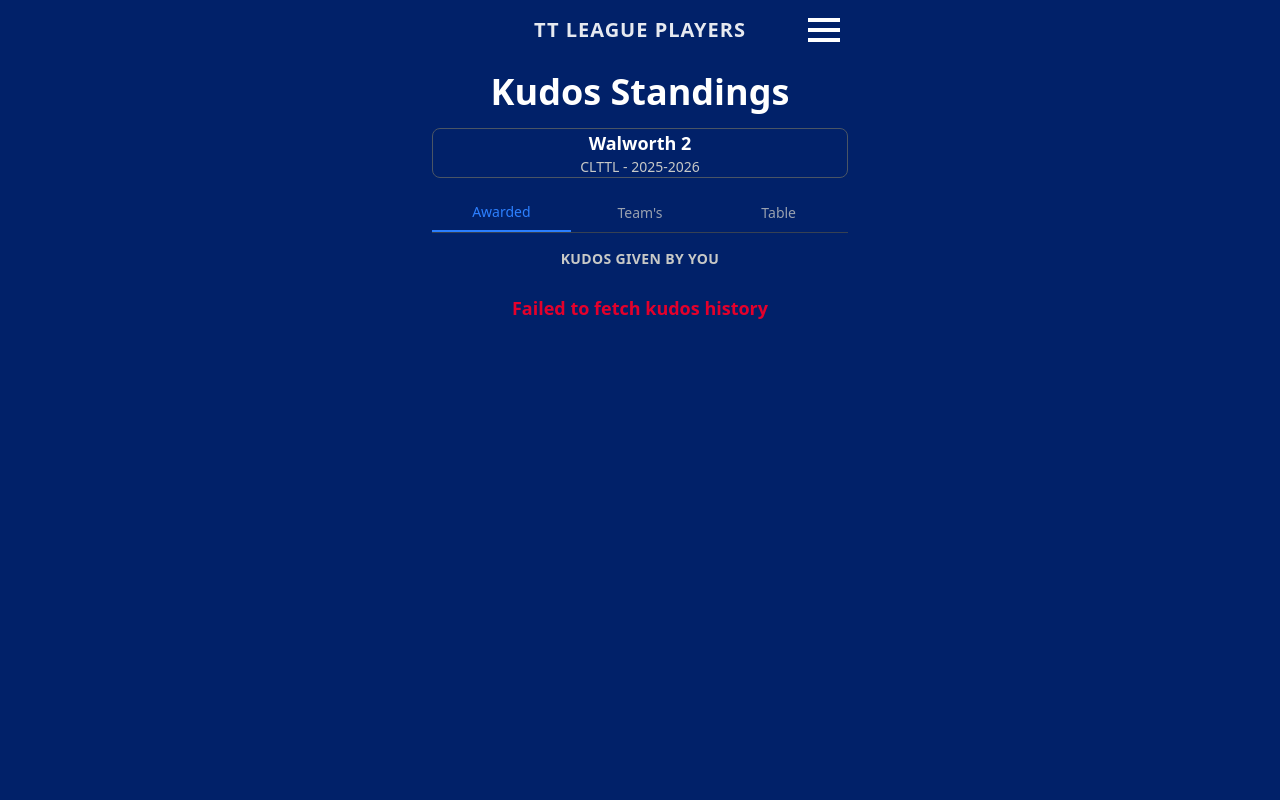
Scenario: KudosStandings info modal › Team's to Table pending request switch › ignores the discarded success until the current tab finishes
Expected: the text "Failed to fetch kudos history" is shown, x1=512 y1=296 x2=768 y2=320
Click the button "Team's" at (640, 213), box x1=571 y1=194 x2=709 y2=232
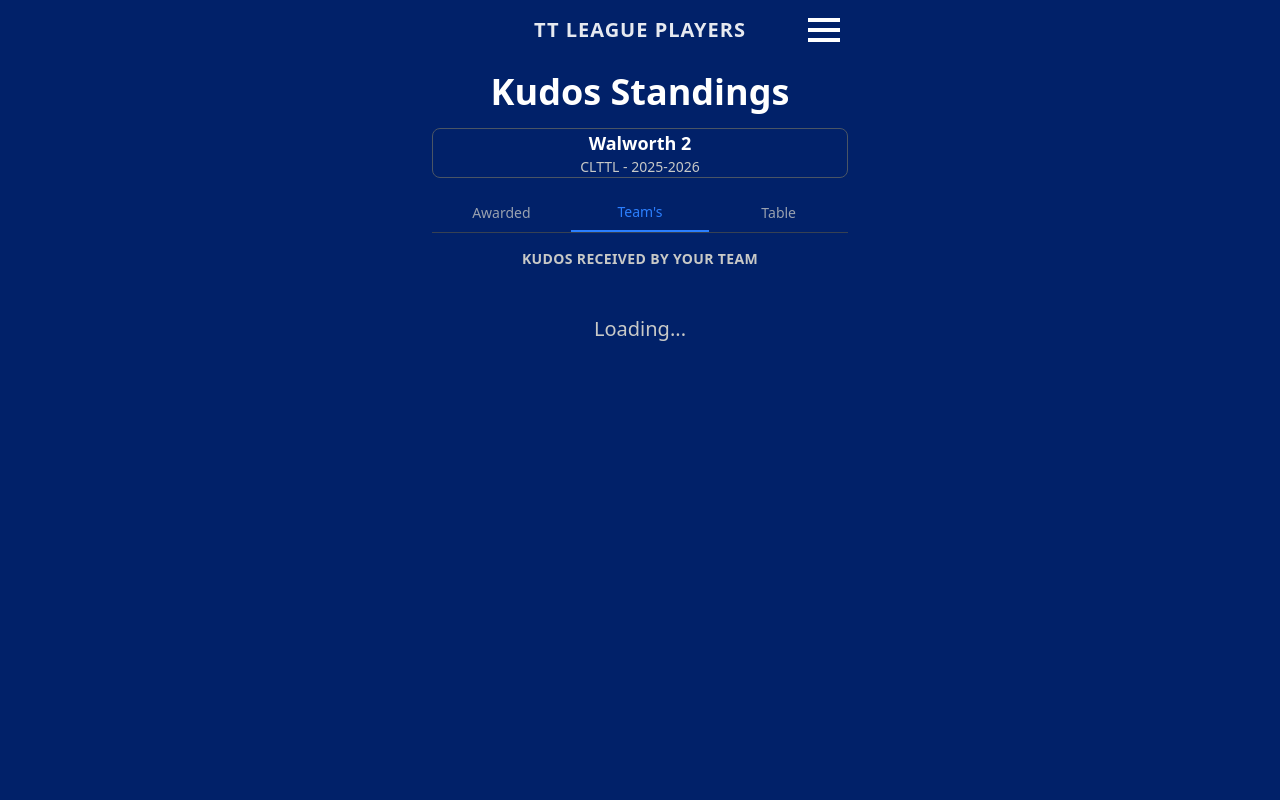
Click the button "Table" at (779, 213), box x1=709 y1=194 x2=848 y2=232
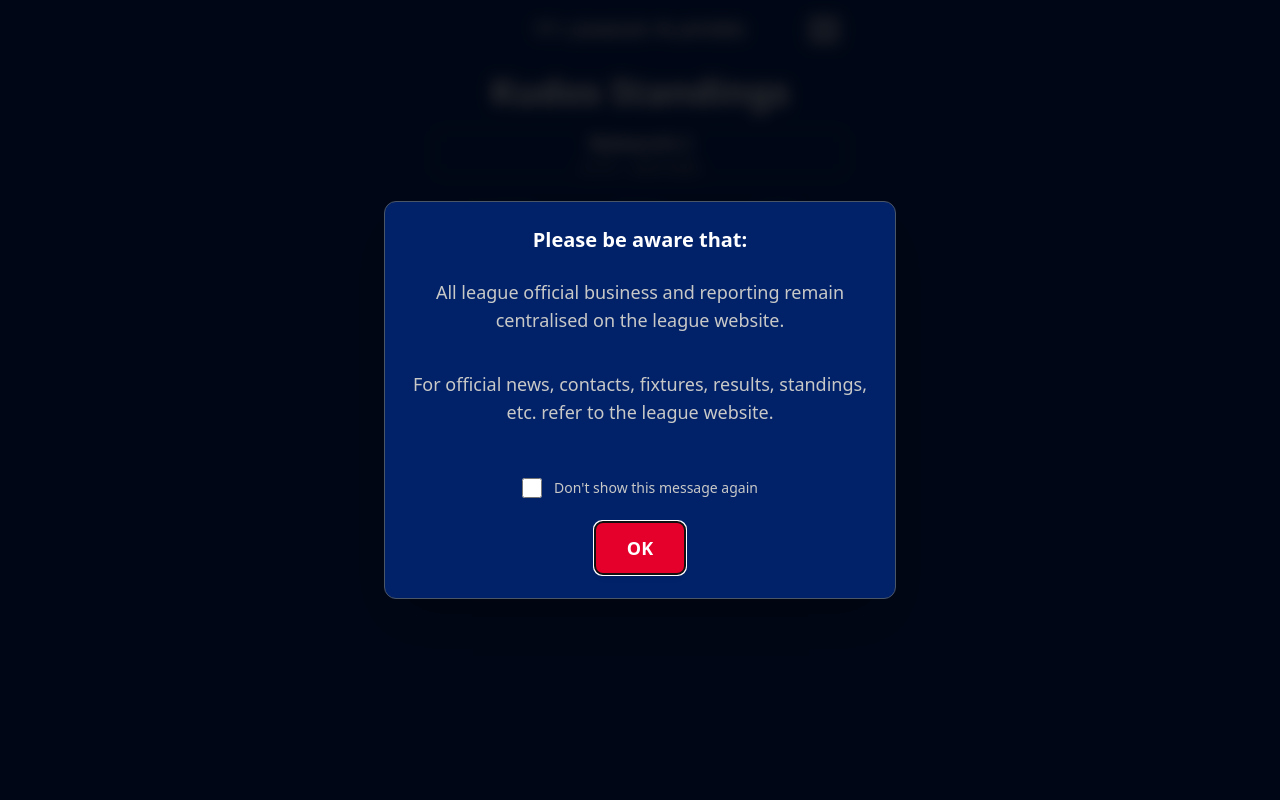
Expected: the text "Failed to fetch" is not shown
Expected: the text "No standings data available." is shown, x1=507 y1=323 x2=773 y2=350
Expected: the dialog with test id "standings-website-info-modal" is shown, x1=384 y1=201 x2=896 y2=599
